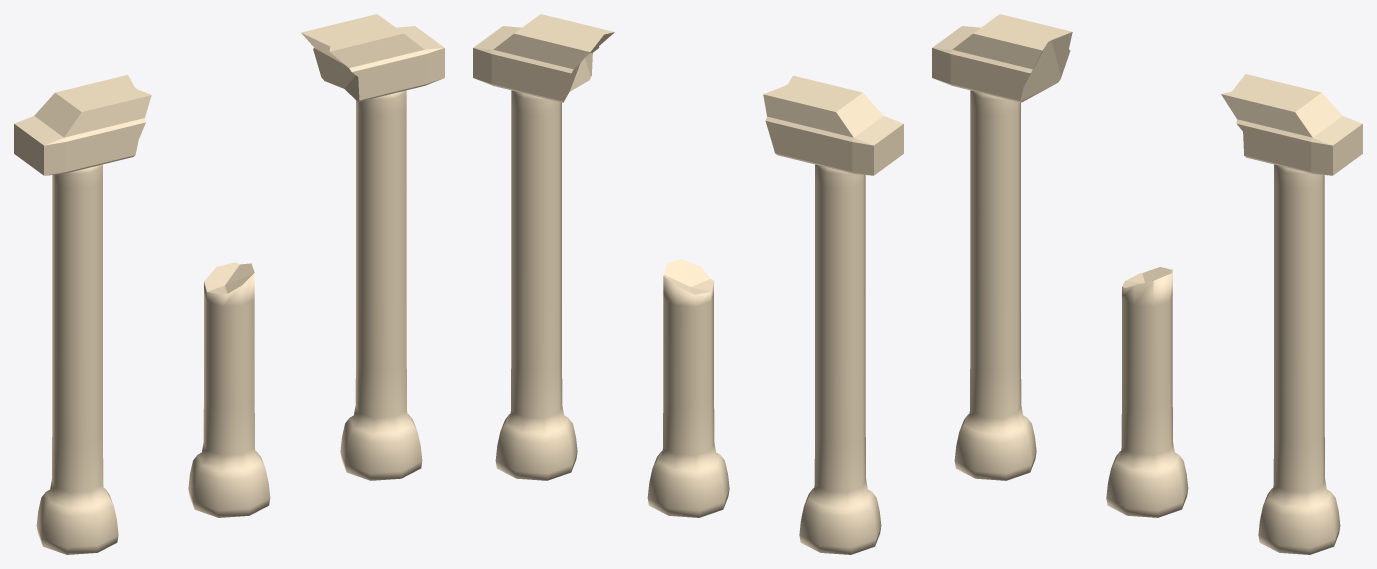
Rendered from columnN04.fbx.
3 renders of one model, left to right at view 1: azimuth 30°, elevation 25°; view 2: azimuth 150°, elevation 25°; view 3: azimuth 330°, elevation 25°, orthographic.
Parts seen in each view (by area): view 1: columnN04a, columnN04c, columnN04b; view 2: columnN04a, columnN04c, columnN04b; view 3: columnN04c, columnN04a, columnN04b.
Part boxes in pixels (left/top/right/bottom): columnN04a: left=14, top=75, right=151, bottom=554; columnN04c: left=301, top=14, right=444, bottom=480; columnN04b: left=188, top=262, right=270, bottom=517; columnN04a: left=763, top=75, right=903, bottom=554; columnN04c: left=473, top=14, right=614, bottom=480; columnN04b: left=647, top=259, right=729, bottom=517; columnN04c: left=1221, top=74, right=1362, bottom=554; columnN04a: left=932, top=14, right=1072, bottom=480; columnN04b: left=1106, top=267, right=1188, bottom=517.
Size of the model in its own units: 1391 by 1463 by 248.
